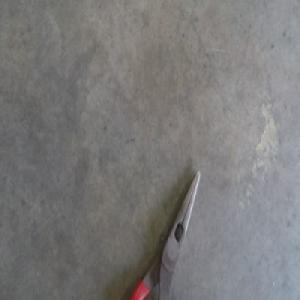Pliers: (129, 170, 200, 298)
